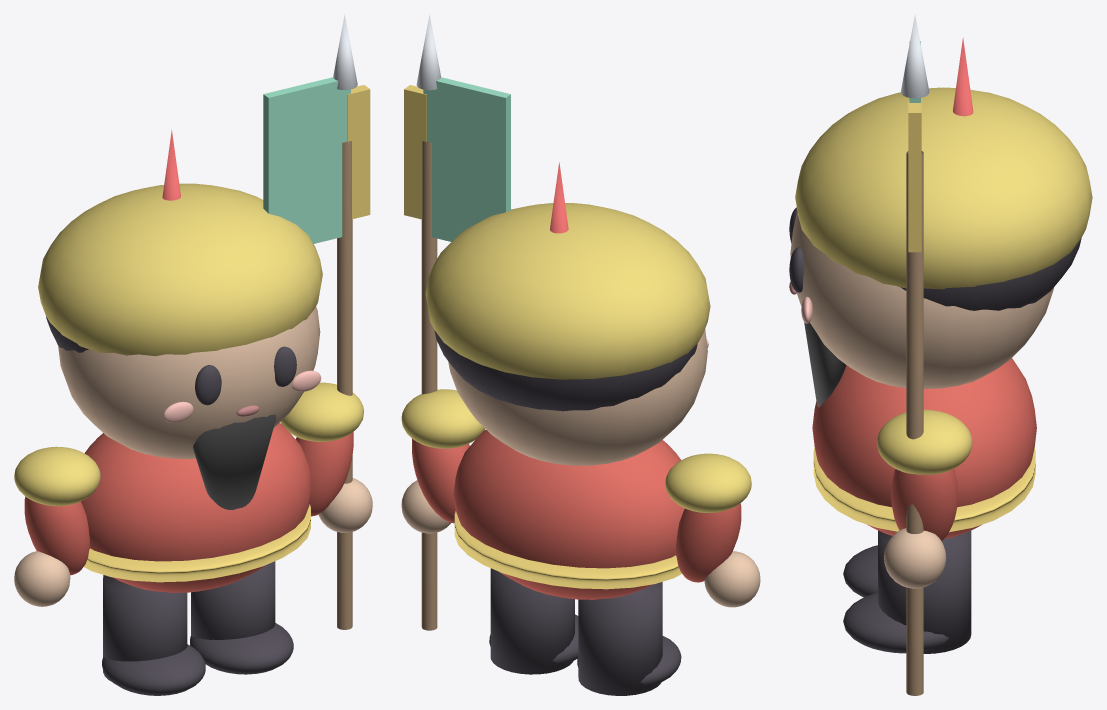
File: yt_chief.fbx
3 views of the same model, side by side, from view 1: azimuth 30°, elevation 25°; view 2: azimuth 150°, elevation 25°; view 3: azimuth 270°, elevation 25° (orthographic). The views are drawn at different scales.
Visible parts, largest first — view 1: helmet, body, head_mesh, wp_blade, leg, beard, wp_shaft, belt, leg.001, pauldron.001, arm_mesh.001, pauldron (+10 smaller); view 2: helmet, body, head_mesh, wp_blade, leg, leg.001, hair, belt, wp_shaft, pauldron.001, arm_mesh.001, pauldron (+7 smaller); view 3: helmet, body, head_mesh, wp_shaft, leg.001, pauldron, belt, hair, arm_mesh, hand_mesh, shoe.001, wp_blade_back (+5 smaller).
Part boxes in pixels (x1=…): helmet: x1=38, y1=183, x2=322, y2=356; body: x1=81, y1=423, x2=312, y2=592; head_mesh: x1=58, y1=306, x2=320, y2=458; wp_blade: x1=263, y1=77, x2=350, y2=243; leg: x1=103, y1=575, x2=187, y2=681; beard: x1=193, y1=414, x2=276, y2=509; wp_shaft: x1=337, y1=141, x2=352, y2=629; belt: x1=84, y1=504, x2=310, y2=582; leg.001: x1=191, y1=561, x2=275, y2=639; pauldron.001: x1=14, y1=446, x2=100, y2=506; arm_mesh.001: x1=24, y1=496, x2=90, y2=575; pauldron: x1=280, y1=382, x2=363, y2=441; helmet: x1=425, y1=203, x2=710, y2=379; body: x1=453, y1=430, x2=684, y2=599; head_mesh: x1=448, y1=329, x2=707, y2=465; wp_blade: x1=423, y1=77, x2=510, y2=241; leg: x1=578, y1=582, x2=662, y2=695; leg.001: x1=490, y1=568, x2=574, y2=674; hair: x1=434, y1=330, x2=697, y2=411; belt: x1=454, y1=511, x2=681, y2=589; wp_shaft: x1=421, y1=141, x2=437, y2=630; pauldron.001: x1=665, y1=453, x2=751, y2=512; arm_mesh.001: x1=675, y1=503, x2=741, y2=582; pauldron: x1=401, y1=389, x2=484, y2=448; helmet: x1=795, y1=87, x2=1092, y2=289; body: x1=812, y1=358, x2=1036, y2=538; head_mesh: x1=790, y1=213, x2=1053, y2=388; wp_shaft: x1=906, y1=151, x2=923, y2=695; leg.001: x1=878, y1=530, x2=971, y2=653; pauldron: x1=876, y1=409, x2=972, y2=474; belt: x1=813, y1=448, x2=1035, y2=532; hair: x1=901, y1=238, x2=1081, y2=310; arm_mesh: x1=891, y1=469, x2=958, y2=541; hand_mesh: x1=884, y1=528, x2=946, y2=588; shoe.001: x1=843, y1=592, x2=948, y2=653; wp_blade_back: x1=908, y1=101, x2=921, y2=252.
Bounding box in the file's own units: 0.936 × 1.58 × 0.632.
